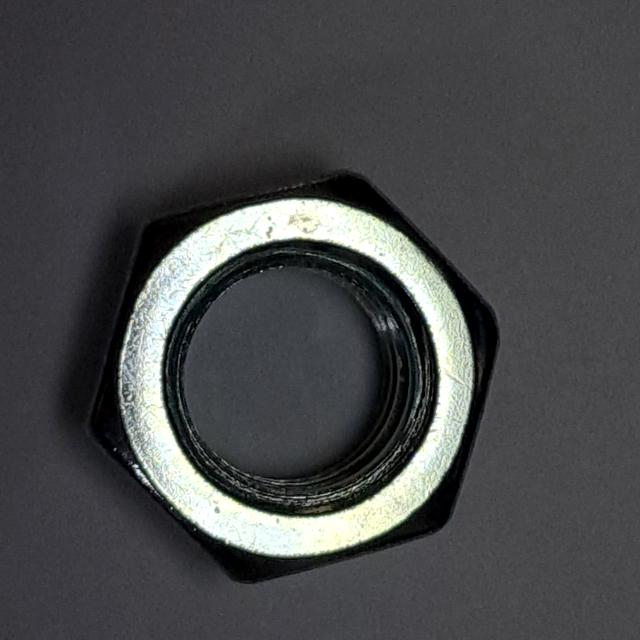Excellent: (72, 154, 516, 600)
